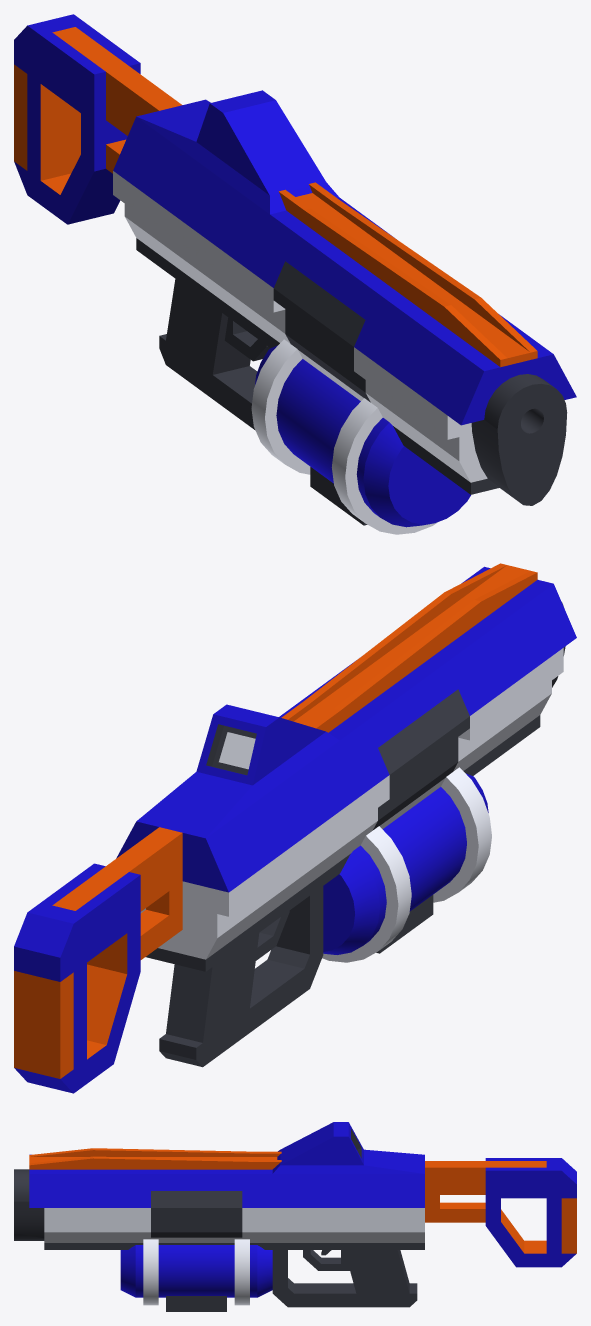
File: Assault rifle.fbx
The picture shows the model from 3 angles, top to bottom: view 1: azimuth 30°, elevation 25°; view 2: azimuth 150°, elevation 25°; view 3: azimuth 270°, elevation 25°; orthographic projection. The views are drawn at different scales.
Visible parts, largest first — view 1: largeBlaster_handleGuard, largeBlaster_barrelSpace, stock_tactical, attachment_barrel, largeBlaster_centerDetail, detailCounter, detailTargetSight; view 2: largeBlaster_handleGuard, stock_tactical, attachment_barrel, largeBlaster_centerDetail, detailCounter, largeBlaster_barrelSpace, detailTargetSight; view 3: largeBlaster_handleGuard, largeBlaster_centerDetail, stock_tactical, attachment_barrel, largeBlaster_barrelSpace, detailTargetSight, detailCounter.
Part boxes in pixels (bbox=[...]): largeBlaster_handleGuard: bbox=[113, 116, 269, 429]; largeBlaster_barrelSpace: bbox=[380, 308, 576, 505]; stock_tactical: bbox=[14, 14, 182, 224]; attachment_barrel: bbox=[251, 339, 470, 534]; largeBlaster_centerDetail: bbox=[247, 197, 419, 445]; detailCounter: bbox=[136, 90, 339, 214]; detailTargetSight: bbox=[278, 182, 537, 367]; largeBlaster_handleGuard: bbox=[116, 740, 362, 1067]; stock_tactical: bbox=[14, 827, 182, 1093]; attachment_barrel: bbox=[322, 767, 491, 962]; largeBlaster_centerDetail: bbox=[279, 638, 496, 873]; detailCounter: bbox=[136, 704, 339, 838]; largeBlaster_barrelSpace: bbox=[457, 566, 576, 775]; detailTargetSight: bbox=[281, 563, 537, 732]; largeBlaster_handleGuard: bbox=[272, 1174, 424, 1307]; largeBlaster_centerDetail: bbox=[120, 1169, 272, 1249]; stock_tactical: bbox=[425, 1158, 576, 1267]; attachment_barrel: bbox=[120, 1239, 272, 1311]; largeBlaster_barrelSpace: bbox=[14, 1154, 120, 1249]; detailTargetSight: bbox=[29, 1148, 281, 1169]; detailCounter: bbox=[272, 1122, 424, 1173].
Bounding box in the file's own units: 6 × 12.5 × 37.
